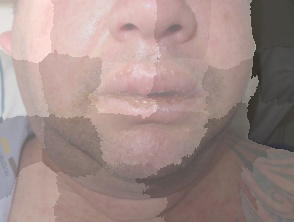SJS-TEN: (92, 85, 205, 131), (112, 61, 188, 86)
